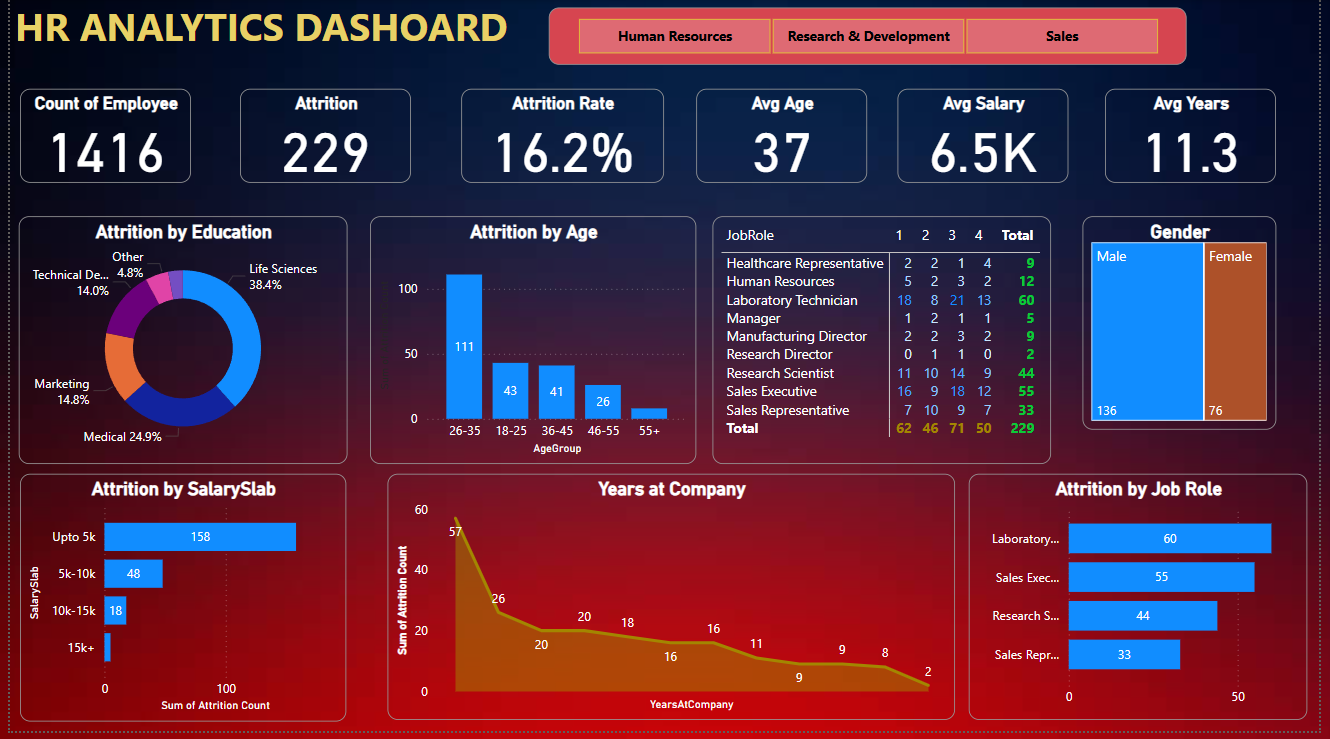

What the dashboard file says about the page in this screenshot:
{"tool":"powerbi","page":{"name":"Page 1","canvas":[1280,720],"ordinal":0},"visuals":[{"type":"card","title":"Count of Employee","fields":{"Values":["CountNonNull(HR_Analytics.EmpID)"]},"box":[9.8,91.7,167.5,91.7],"z":0},{"type":"card","title":"Attrition","fields":{"Values":["Sum(HR_Analytics.Attrition Count)"]},"box":[225,91.7,167.5,91.7],"z":1000},{"type":"card","title":"Attrition Rate","fields":{"Values":["HR_Analytics.Attritionrate"]},"box":[441.4,91.7,198.1,91.7],"z":2000},{"type":"card","title":"Avg Age","fields":{"Values":["Avg(HR_Analytics.Age)"]},"box":[671.3,91.7,167.5,91.7],"z":3000},{"type":"card","title":"Avg Salary","fields":{"Values":["Avg(HR_Analytics.MonthlyIncome)"]},"box":[868.2,91.7,167.5,91.7],"z":4000},{"type":"card","title":"Avg Years","fields":{"Values":["Avg(HR_Analytics.TotalWorkingYears)"]},"box":[1071.2,91.7,167.5,91.7],"z":5000},{"type":"donutChart","title":"Attrition by Education","fields":{"Category":["HR_Analytics.EducationField"],"Y":["Sum(HR_Analytics.Attrition Count)"]},"box":[8.6,216.4,321.6,242.1],"z":6000},{"type":"columnChart","title":"Attrition by Age","fields":{"Category":["HR_Analytics.AgeGroup"],"Y":["Sum(HR_Analytics.Attrition Count)"]},"box":[352.2,216.4,319.2,242.1],"z":7000},{"type":"pivotTable","fields":{"Rows":["HR_Analytics.JobRole"],"Columns":["HR_Analytics.JobSatisfaction"],"Values":["Sum(HR_Analytics.Attrition Count)"]},"box":[687.2,216.4,331.4,242.1],"z":8000},{"type":"barChart","title":"Attrition by SalarySlab","fields":{"Category":["HR_Analytics.SalarySlab"],"Y":["Sum(HR_Analytics.Attrition Count)"]},"box":[9.8,468.3,319.2,242.1],"z":9000},{"type":"clusteredBarChart","title":"Attrition by Job Role","fields":{"Y":["Sum(HR_Analytics.Attrition Count)"],"Category":["HR_Analytics.JobRole"]},"box":[937.9,468.3,331.4,240.9],"z":9001},{"type":"areaChart","title":"Years at Company","fields":{"Y":["Sum(HR_Analytics.Attrition Count)"],"Category":["HR_Analytics.YearsAtCompany"]},"box":[369.3,468.3,555.2,240.9],"z":9002},{"type":"treemap","title":"Gender","fields":{"Group":["HR_Analytics.Gender"],"Values":["Sum(HR_Analytics.Attrition Count)"]},"box":[1049.2,216.4,189.5,209.1],"z":9003},{"type":"slicer","fields":{"Values":["HR_Analytics.Department"]},"box":[527,12.2,623.6,56.3],"z":9004},{"type":"textbox","box":[0,0,512.4,79.5],"z":9005}]}

Visuals, with their boxes in screenshot pixels (x1, y1, x2, y2), scaled from the page's 1280x720 canvas onto the 1330x739 screenshot:
"Count of Employee" card: region(10, 94, 184, 188)
"Attrition" card: region(234, 94, 408, 188)
"Attrition Rate" card: region(459, 94, 664, 188)
"Avg Age" card: region(698, 94, 872, 188)
"Avg Salary" card: region(902, 94, 1076, 188)
"Avg Years" card: region(1113, 94, 1287, 188)
"Attrition by Education" donutChart: region(9, 222, 343, 471)
"Attrition by Age" columnChart: region(366, 222, 698, 471)
pivotTable - HR_Analytics.JobRole x HR_Analytics.JobSatisfaction: region(714, 222, 1058, 471)
"Attrition by SalarySlab" barChart: region(10, 481, 342, 729)
"Attrition by Job Role" clusteredBarChart: region(975, 481, 1319, 728)
"Years at Company" areaChart: region(384, 481, 961, 728)
"Gender" treemap: region(1090, 222, 1287, 437)
slicer - HR_Analytics.Department: region(548, 13, 1196, 70)
textbox: region(0, 0, 532, 82)
